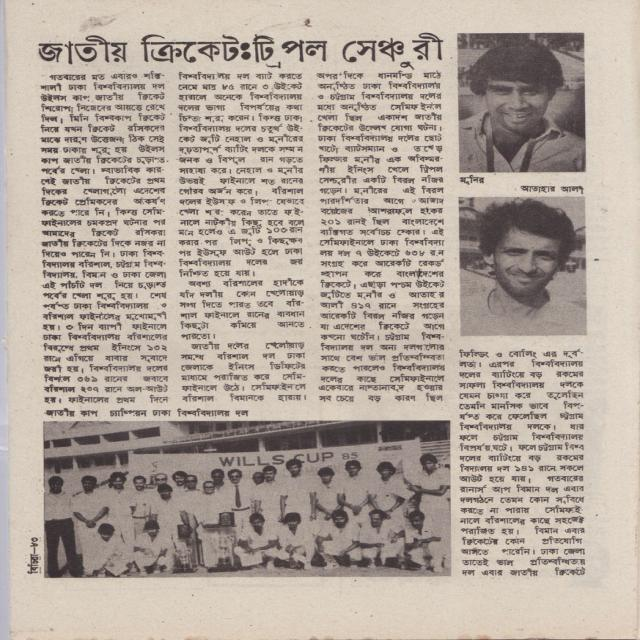caption: (44, 407, 252, 420), (519, 184, 586, 196), (458, 174, 487, 186)
image: (44, 422, 451, 577), (458, 32, 585, 171), (459, 199, 584, 337)
page number: (29, 537, 39, 547)
paragraph: (34, 68, 173, 406), (313, 68, 448, 406), (455, 345, 590, 582), (173, 66, 307, 279), (177, 276, 309, 342), (177, 338, 310, 403)
text: (26, 553, 40, 574)
title: (30, 26, 447, 71)
